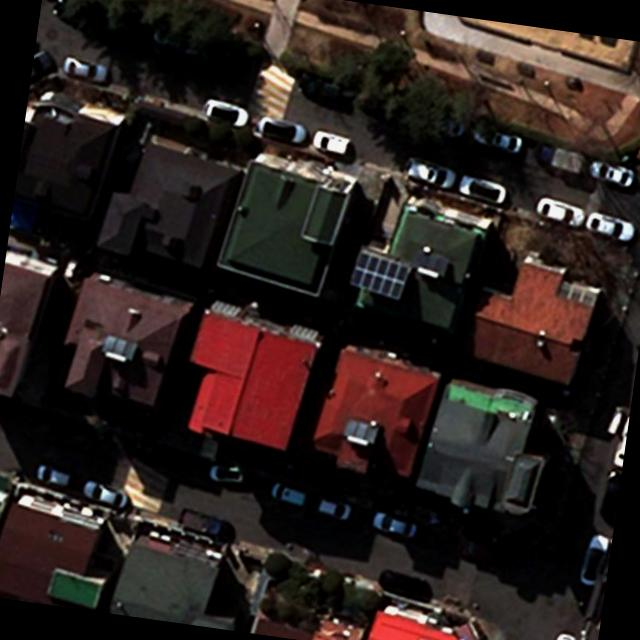solar: (344, 248, 416, 304)
